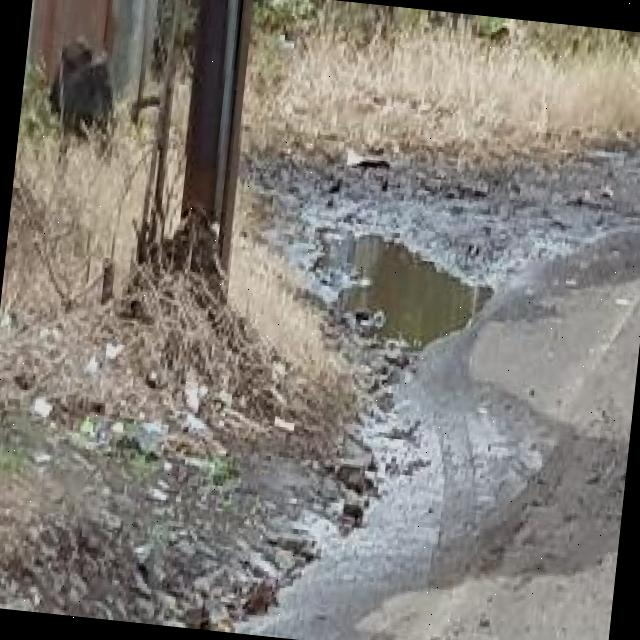stagnation: (306, 203, 518, 364)
